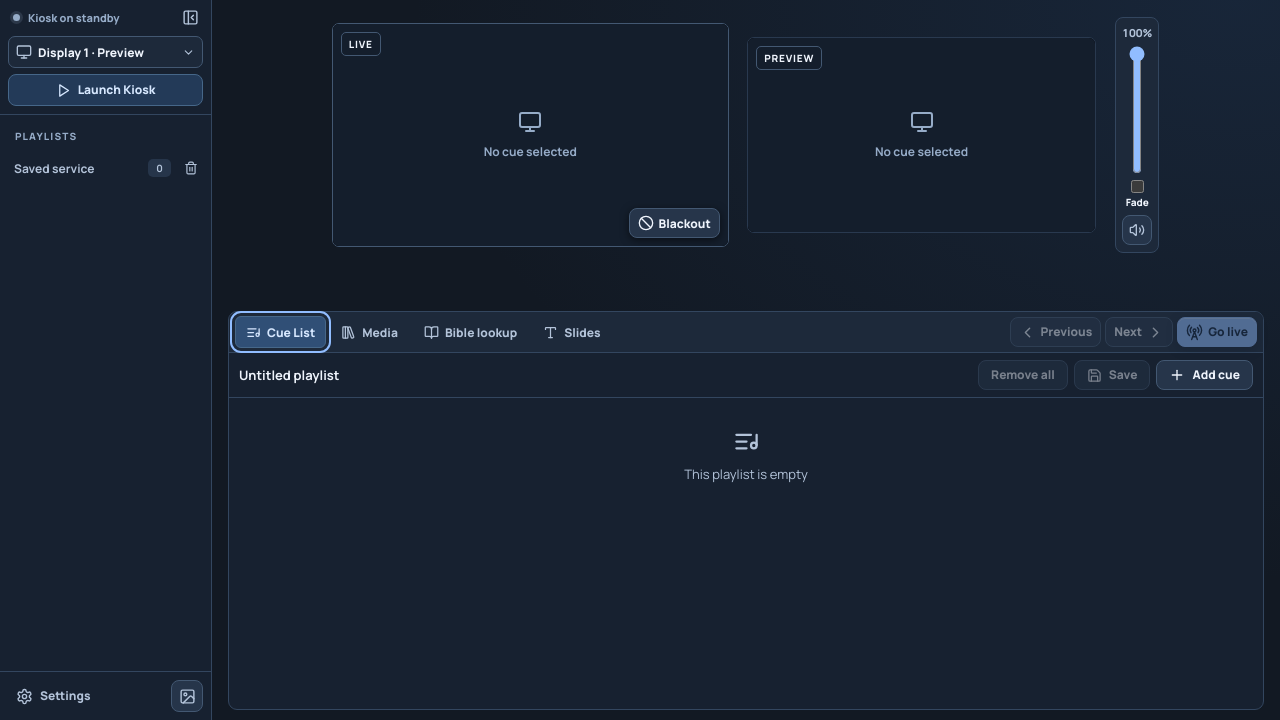
supports keyboard navigation and linked panels in Presentation workspace
The width and height of the screenshot is (1280, 720).
Earlier steps of the test are not shown.
Step 1. Press ArrowLeft in the tab "Cue List", box [235,316,326,348]
Step 2. Press ArrowLeft in the tab "Cue List", box [235,316,326,348]
Step 3. Press ArrowLeft in the tab "Cue List", box [235,316,326,348]
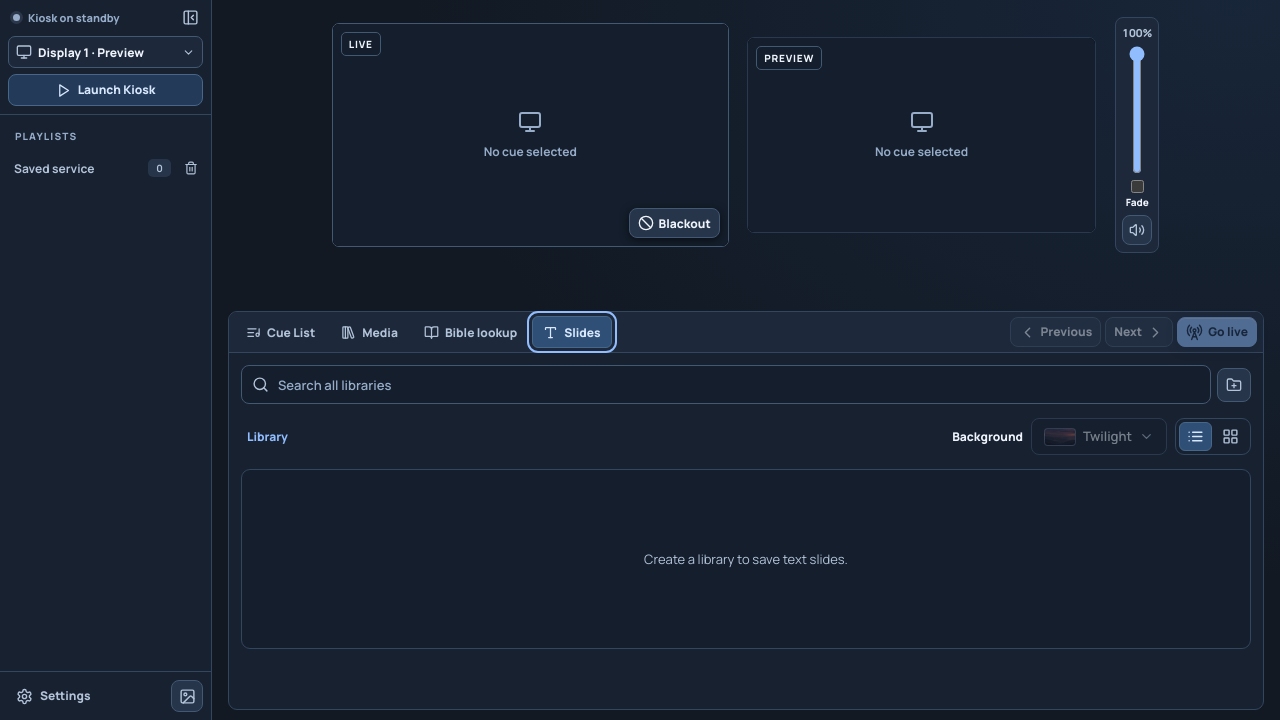
Result: the tab "Cue List" is not selected at [235,316,326,348]
Result: the tab "Slides" is selected
Step 4. Press ArrowRight in the tab "Slides", box [532,316,612,348]
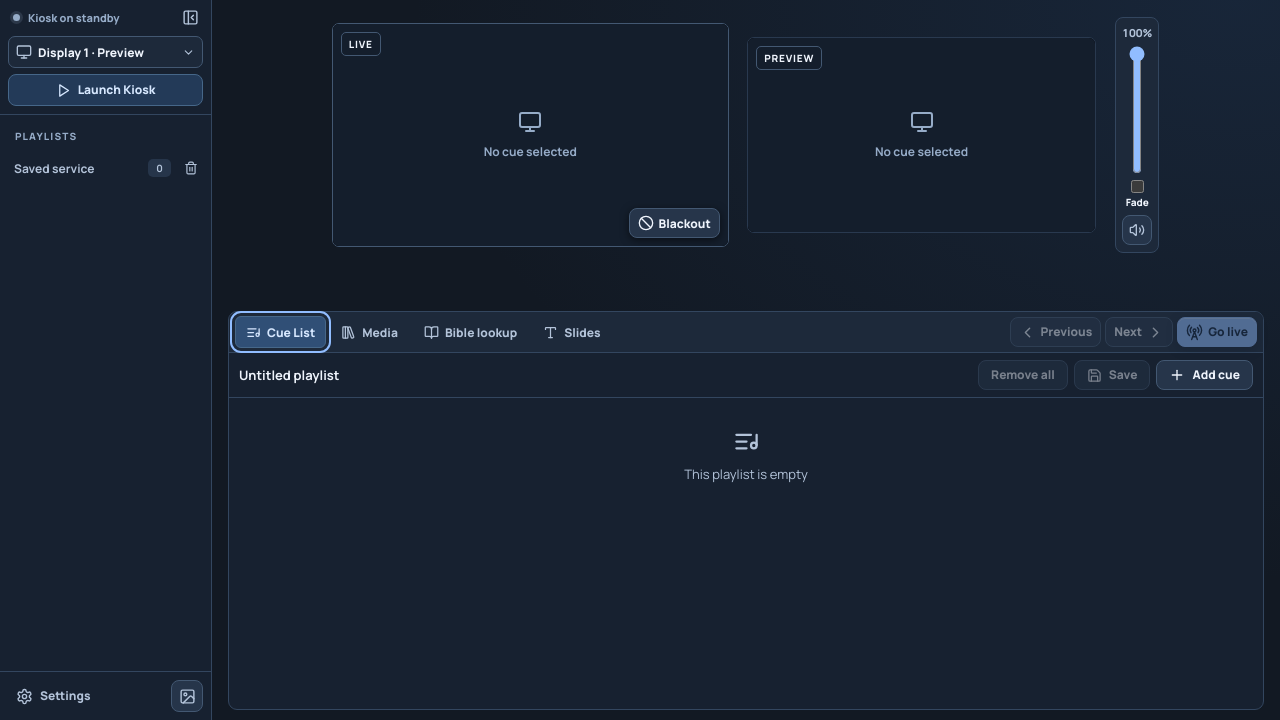
Result: the tab "Cue List" is selected
Result: the tab "Slides" is not selected at [532,316,612,348]
Step 5. Press ArrowRight in the tab "Cue List", box [235,316,326,348]
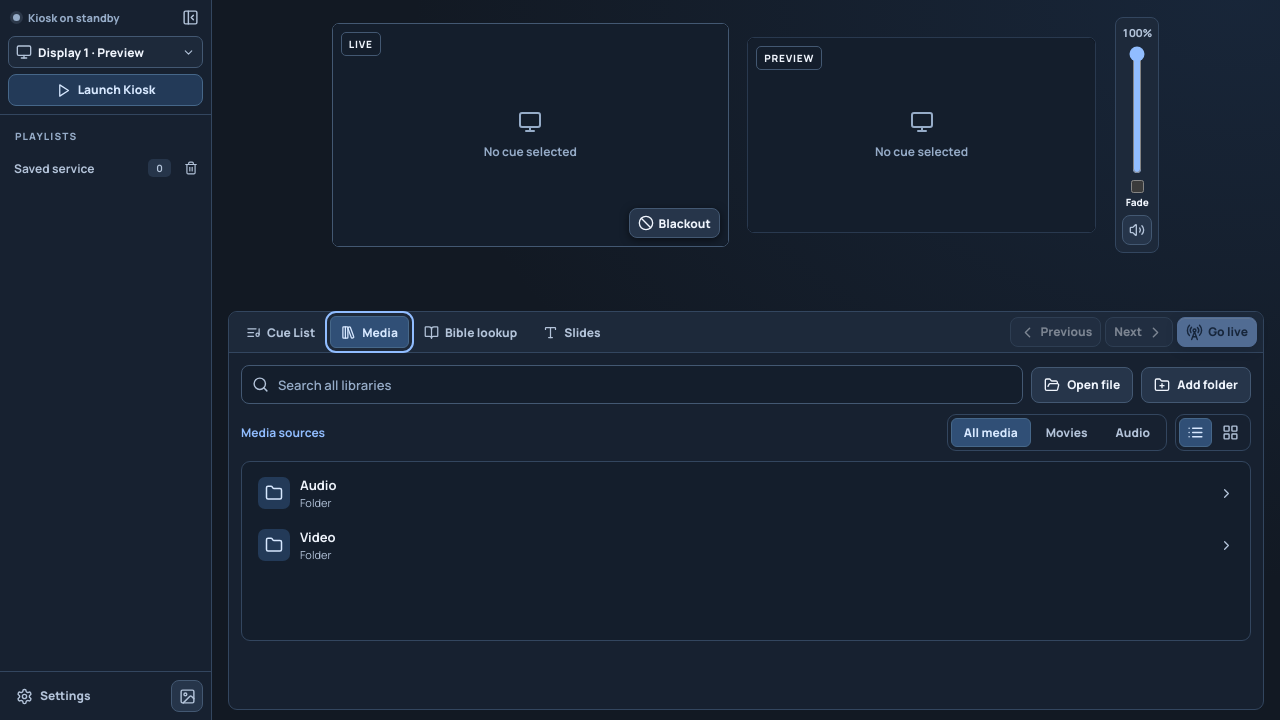
Result: the tab "Cue List" is not selected at [235,316,326,348]
Result: the tab "Media" is selected
Result: the tab "Slides" is not selected at [532,316,612,348]
Step 6. Press End in the tab "Media", box [330,316,409,348]
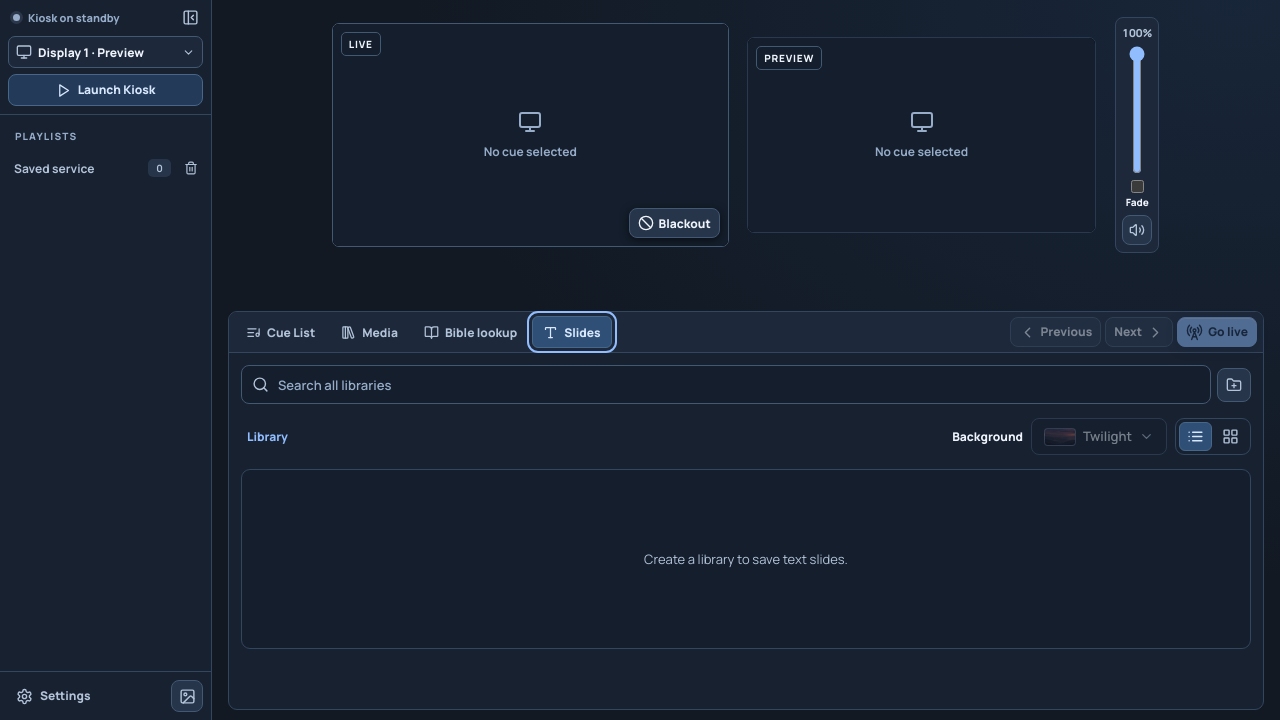
Result: the tab "Cue List" is not selected at [235,316,326,348]
Result: the tab "Media" is not selected at [330,316,409,348]
Result: the tab "Slides" is selected
Step 7. Press Home in the tab "Slides", box [532,316,612,348]
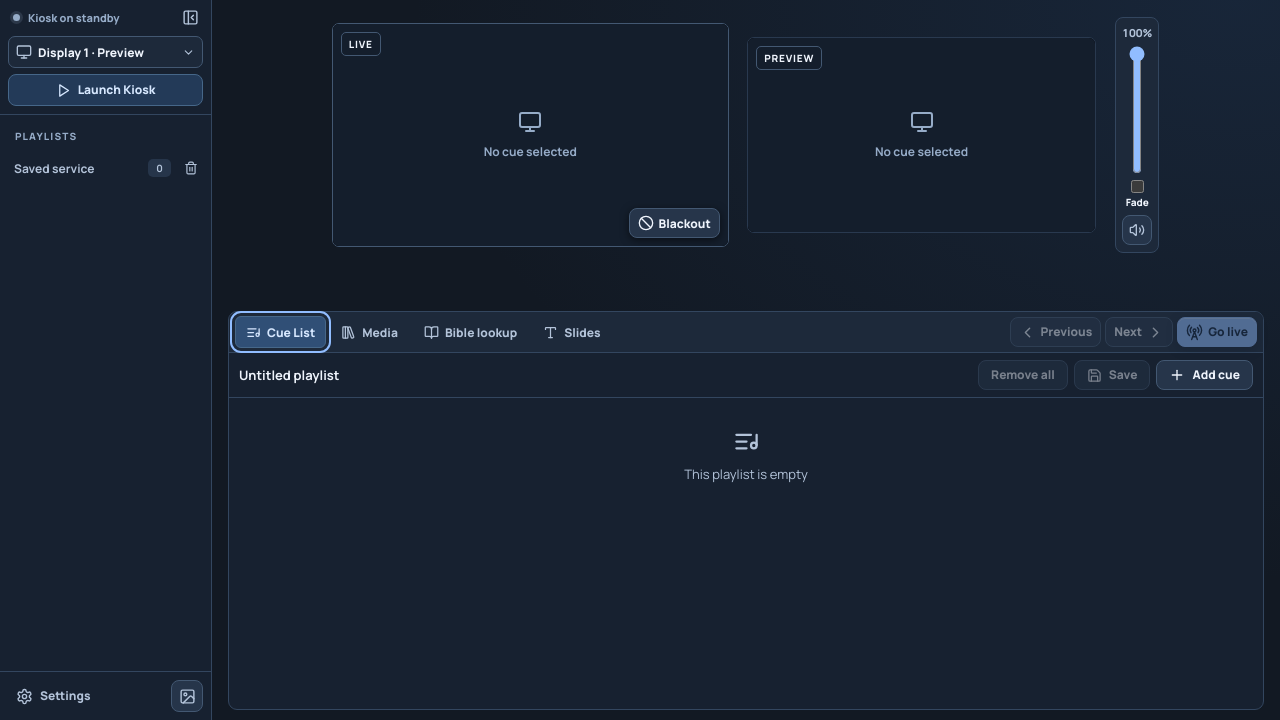
Result: the tab "Cue List" is selected at [235,316,326,348]
Result: the tab "Media" is not selected
Result: the tab "Slides" is not selected at [532,316,612,348]
Step 8. Click the tab "Media" → (370, 332), box [330,316,409,348]
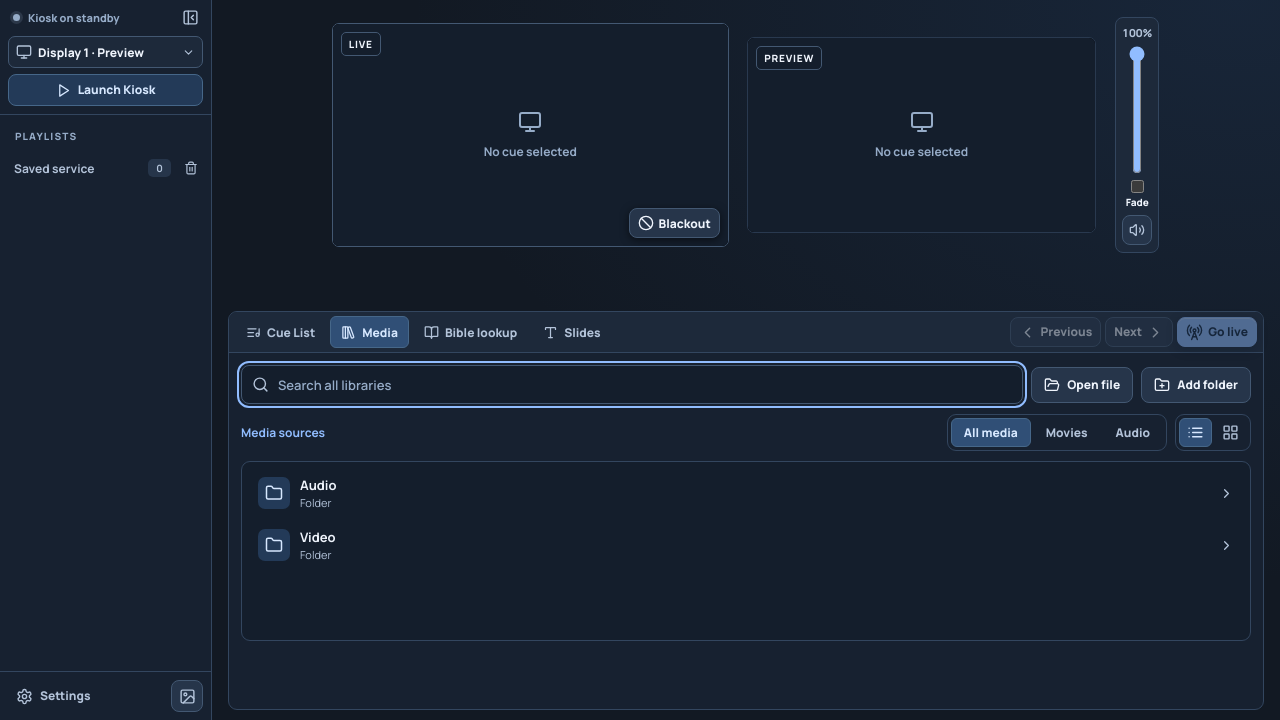
Result: the tab "Cue List" is not selected at [235,316,326,348]
Result: the tab "Media" is selected at [330,316,409,348]
Result: the tab "Slides" is not selected at [532,316,612,348]
